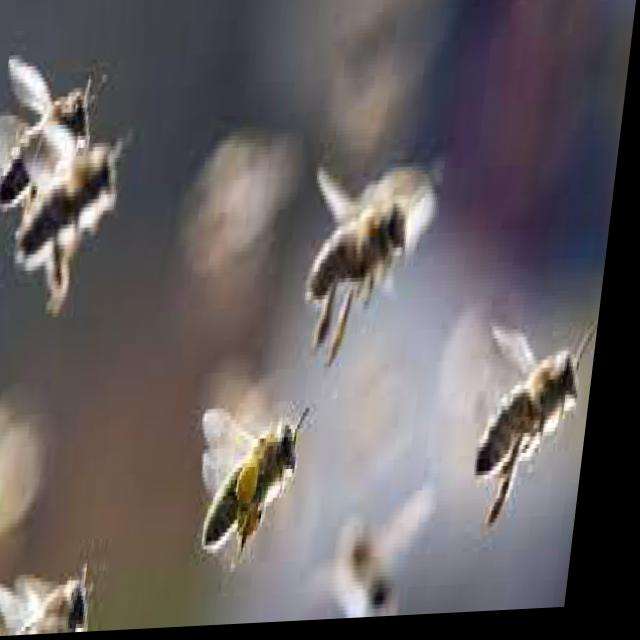Abeille: (475, 317, 604, 529), (193, 392, 327, 589), (301, 155, 432, 356), (14, 120, 140, 299), (0, 44, 112, 213)
